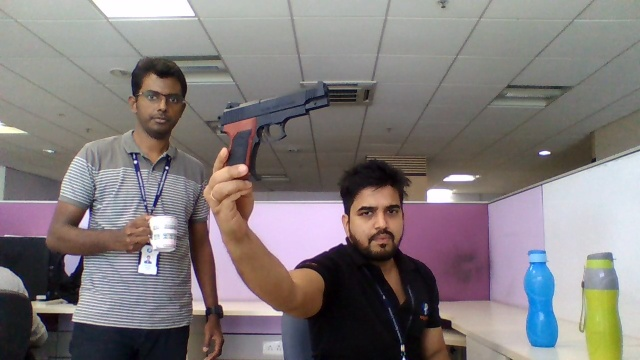gun: (217, 82, 330, 158)
